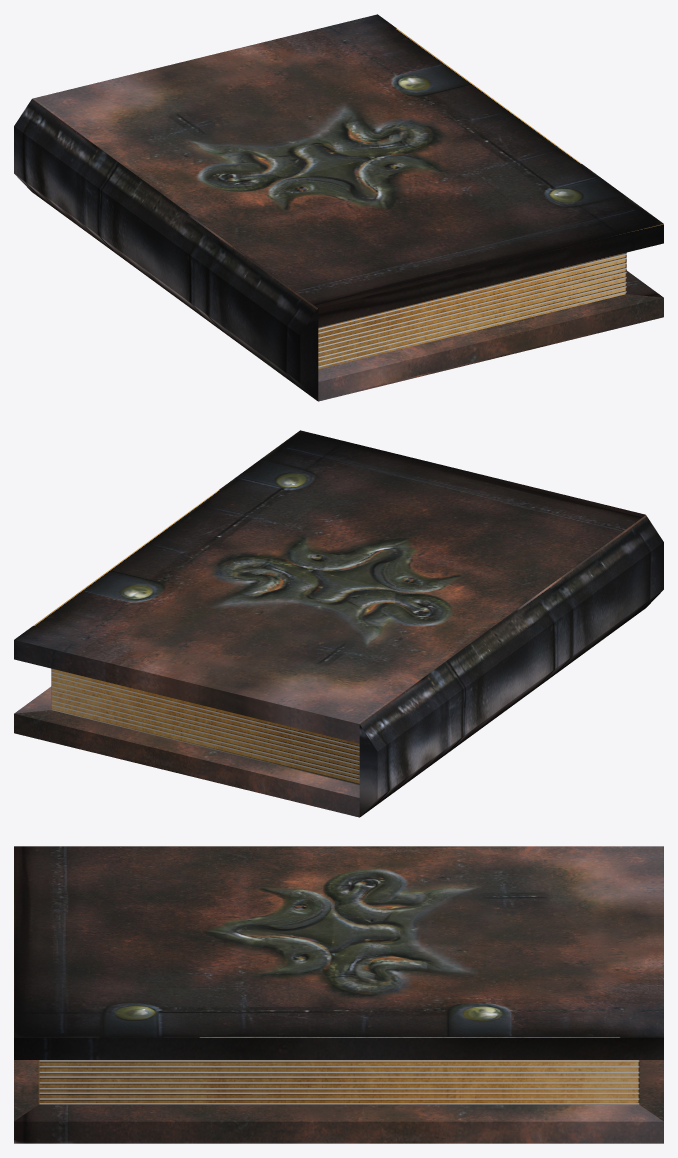
Rendered from old_book.fbx.
3 views of the same model, one above another, from view 1: azimuth 30°, elevation 25°; view 2: azimuth 150°, elevation 25°; view 3: azimuth 270°, elevation 25° (orthographic). The views are drawn at different scales.
Parts seen in each view (by area): view 1: Cover, Book; view 2: Cover, Book; view 3: Cover, Book.
Boxes of the visible parts, x1,y1,x2,y2 form: Cover: (32,14,663,327); Book: (14,99,663,401); Cover: (14,430,645,743); Book: (14,515,663,817); Cover: (14,846,663,1059); Book: (14,1060,663,1143).
Size of the model in its own units: 1.91 by 0.4678 by 2.6.
